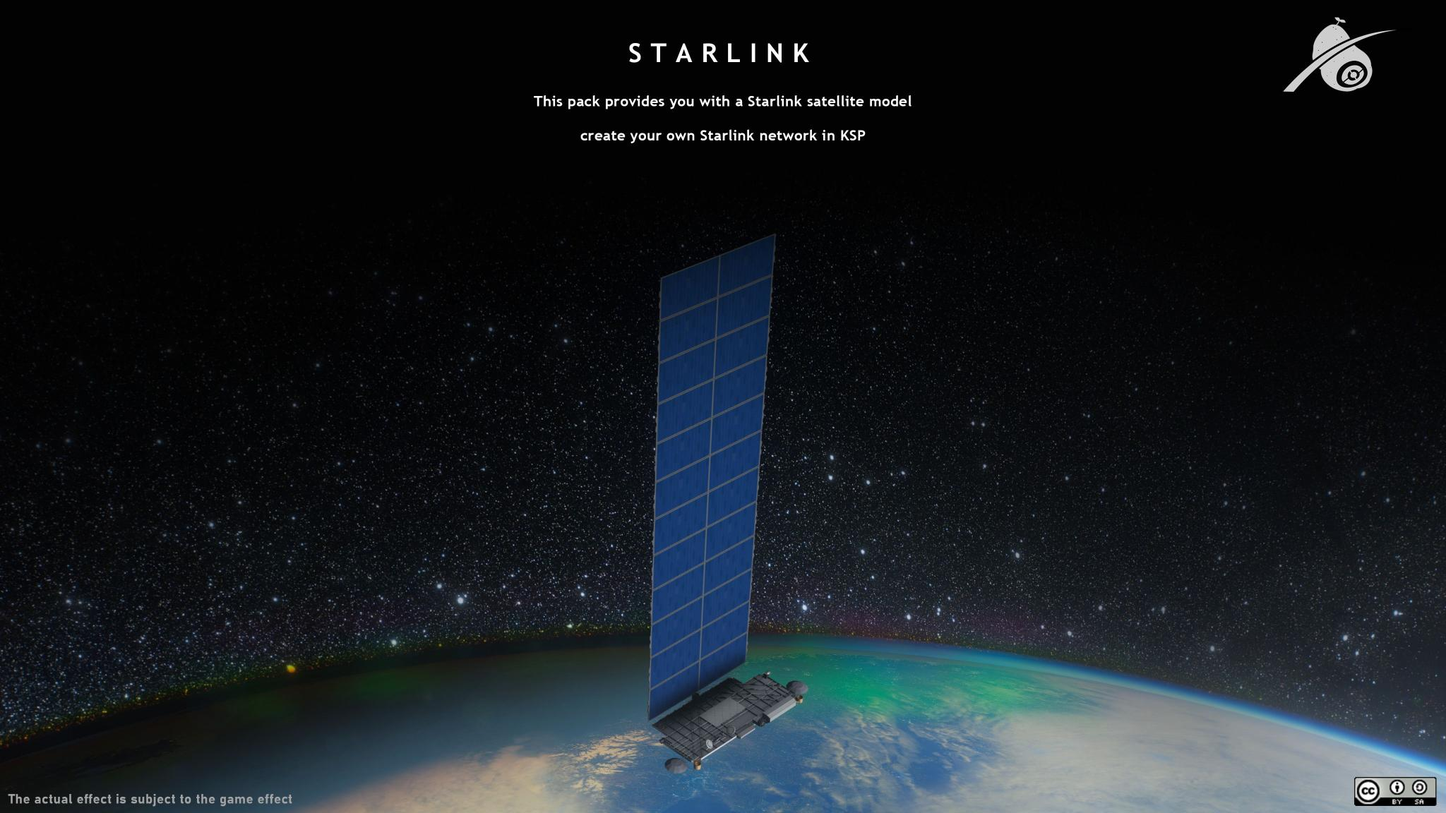antenna: (663, 757, 689, 775), (785, 680, 809, 698)
solar: (646, 232, 777, 723)
